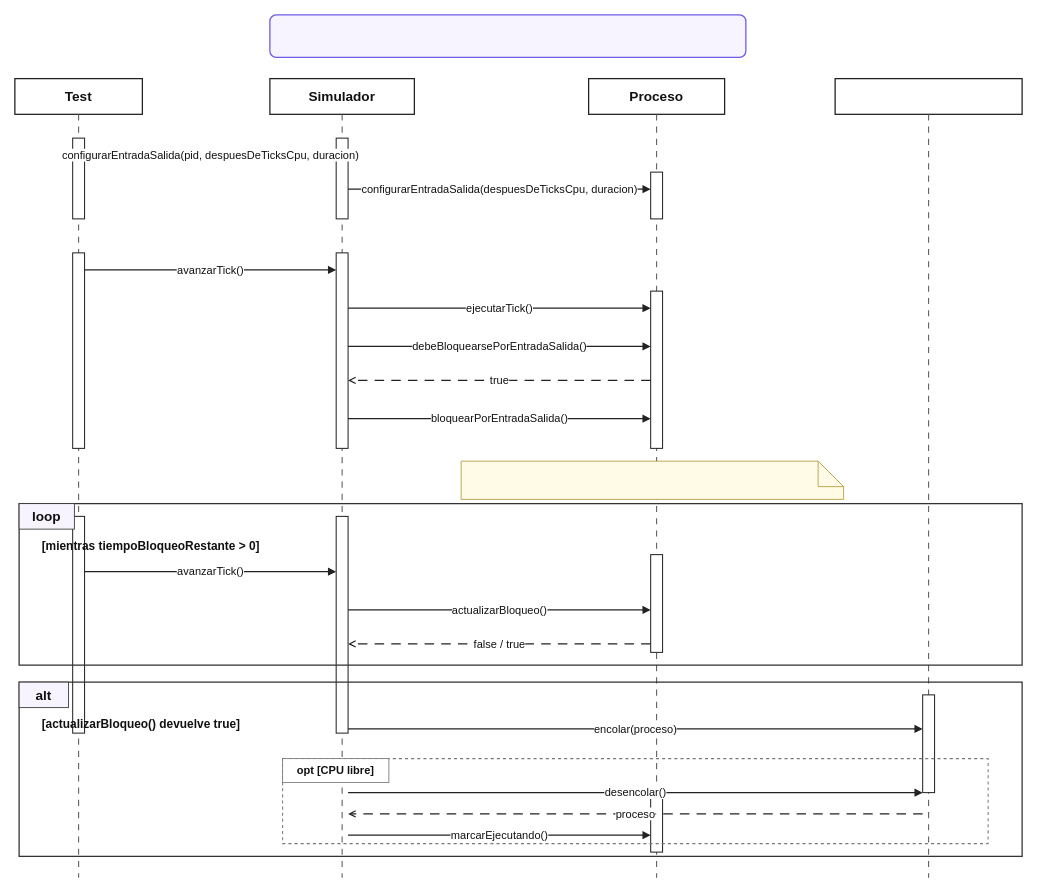
Some shapes in this 1038 by 894 pixel diagram are drawn without their labels. The centre of each missing label's shape, as x and y in pixels:
Bloqueo y retorno por Entrada/Salida – RF08: (507,36)
El proceso pasa a BLOQUEADO, libera la CPU y conserva la memoria.: (652,479)
PlanificadorRoundRobin: (928,96)
